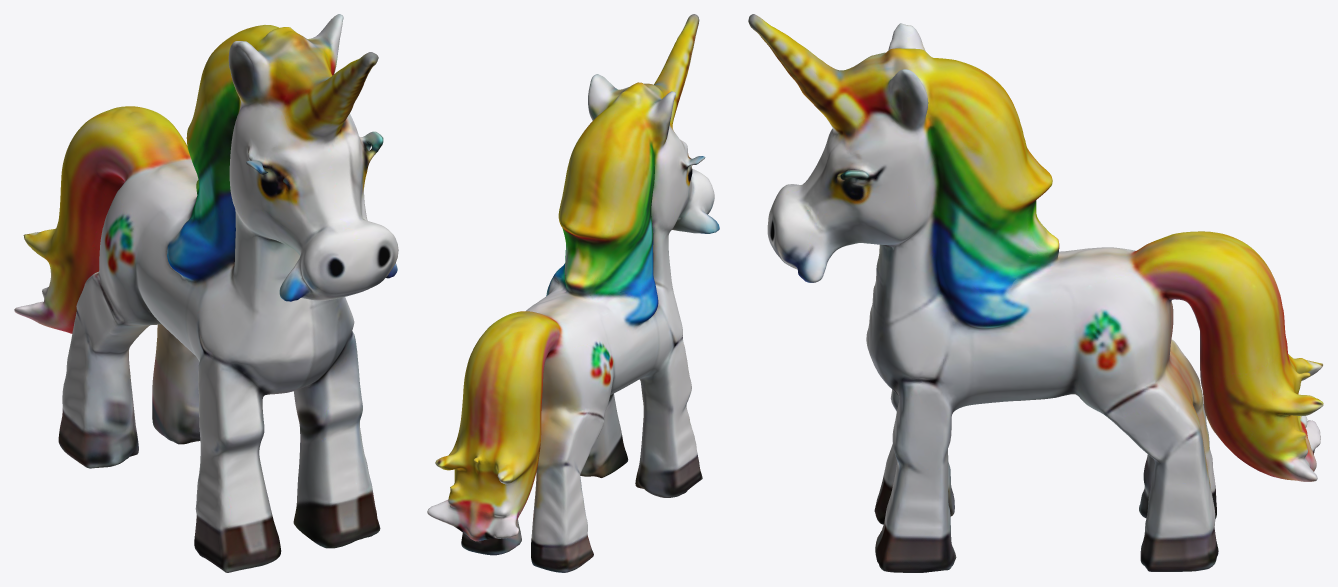
The picture shows the model from 3 angles, left to right: view 1: azimuth 30°, elevation 25°; view 2: azimuth 150°, elevation 25°; view 3: azimuth 270°, elevation 25°; orthographic projection. The views are drawn at different scales.
Parts seen in each view (by area): view 1: tripo_node_f5f2a56f-436a-411c-9ad9-9506974b46f3; view 2: tripo_node_f5f2a56f-436a-411c-9ad9-9506974b46f3; view 3: tripo_node_f5f2a56f-436a-411c-9ad9-9506974b46f3.
Part boxes in pixels (x1,y1,x2,y2): tripo_node_f5f2a56f-436a-411c-9ad9-9506974b46f3: (14, 14, 398, 572); tripo_node_f5f2a56f-436a-411c-9ad9-9506974b46f3: (427, 14, 719, 572); tripo_node_f5f2a56f-436a-411c-9ad9-9506974b46f3: (748, 14, 1323, 572).
Bounding box in the file's own units: 0.2307 × 0.7645 × 0.7588.
Materials: 1 (1 with a texture image).
